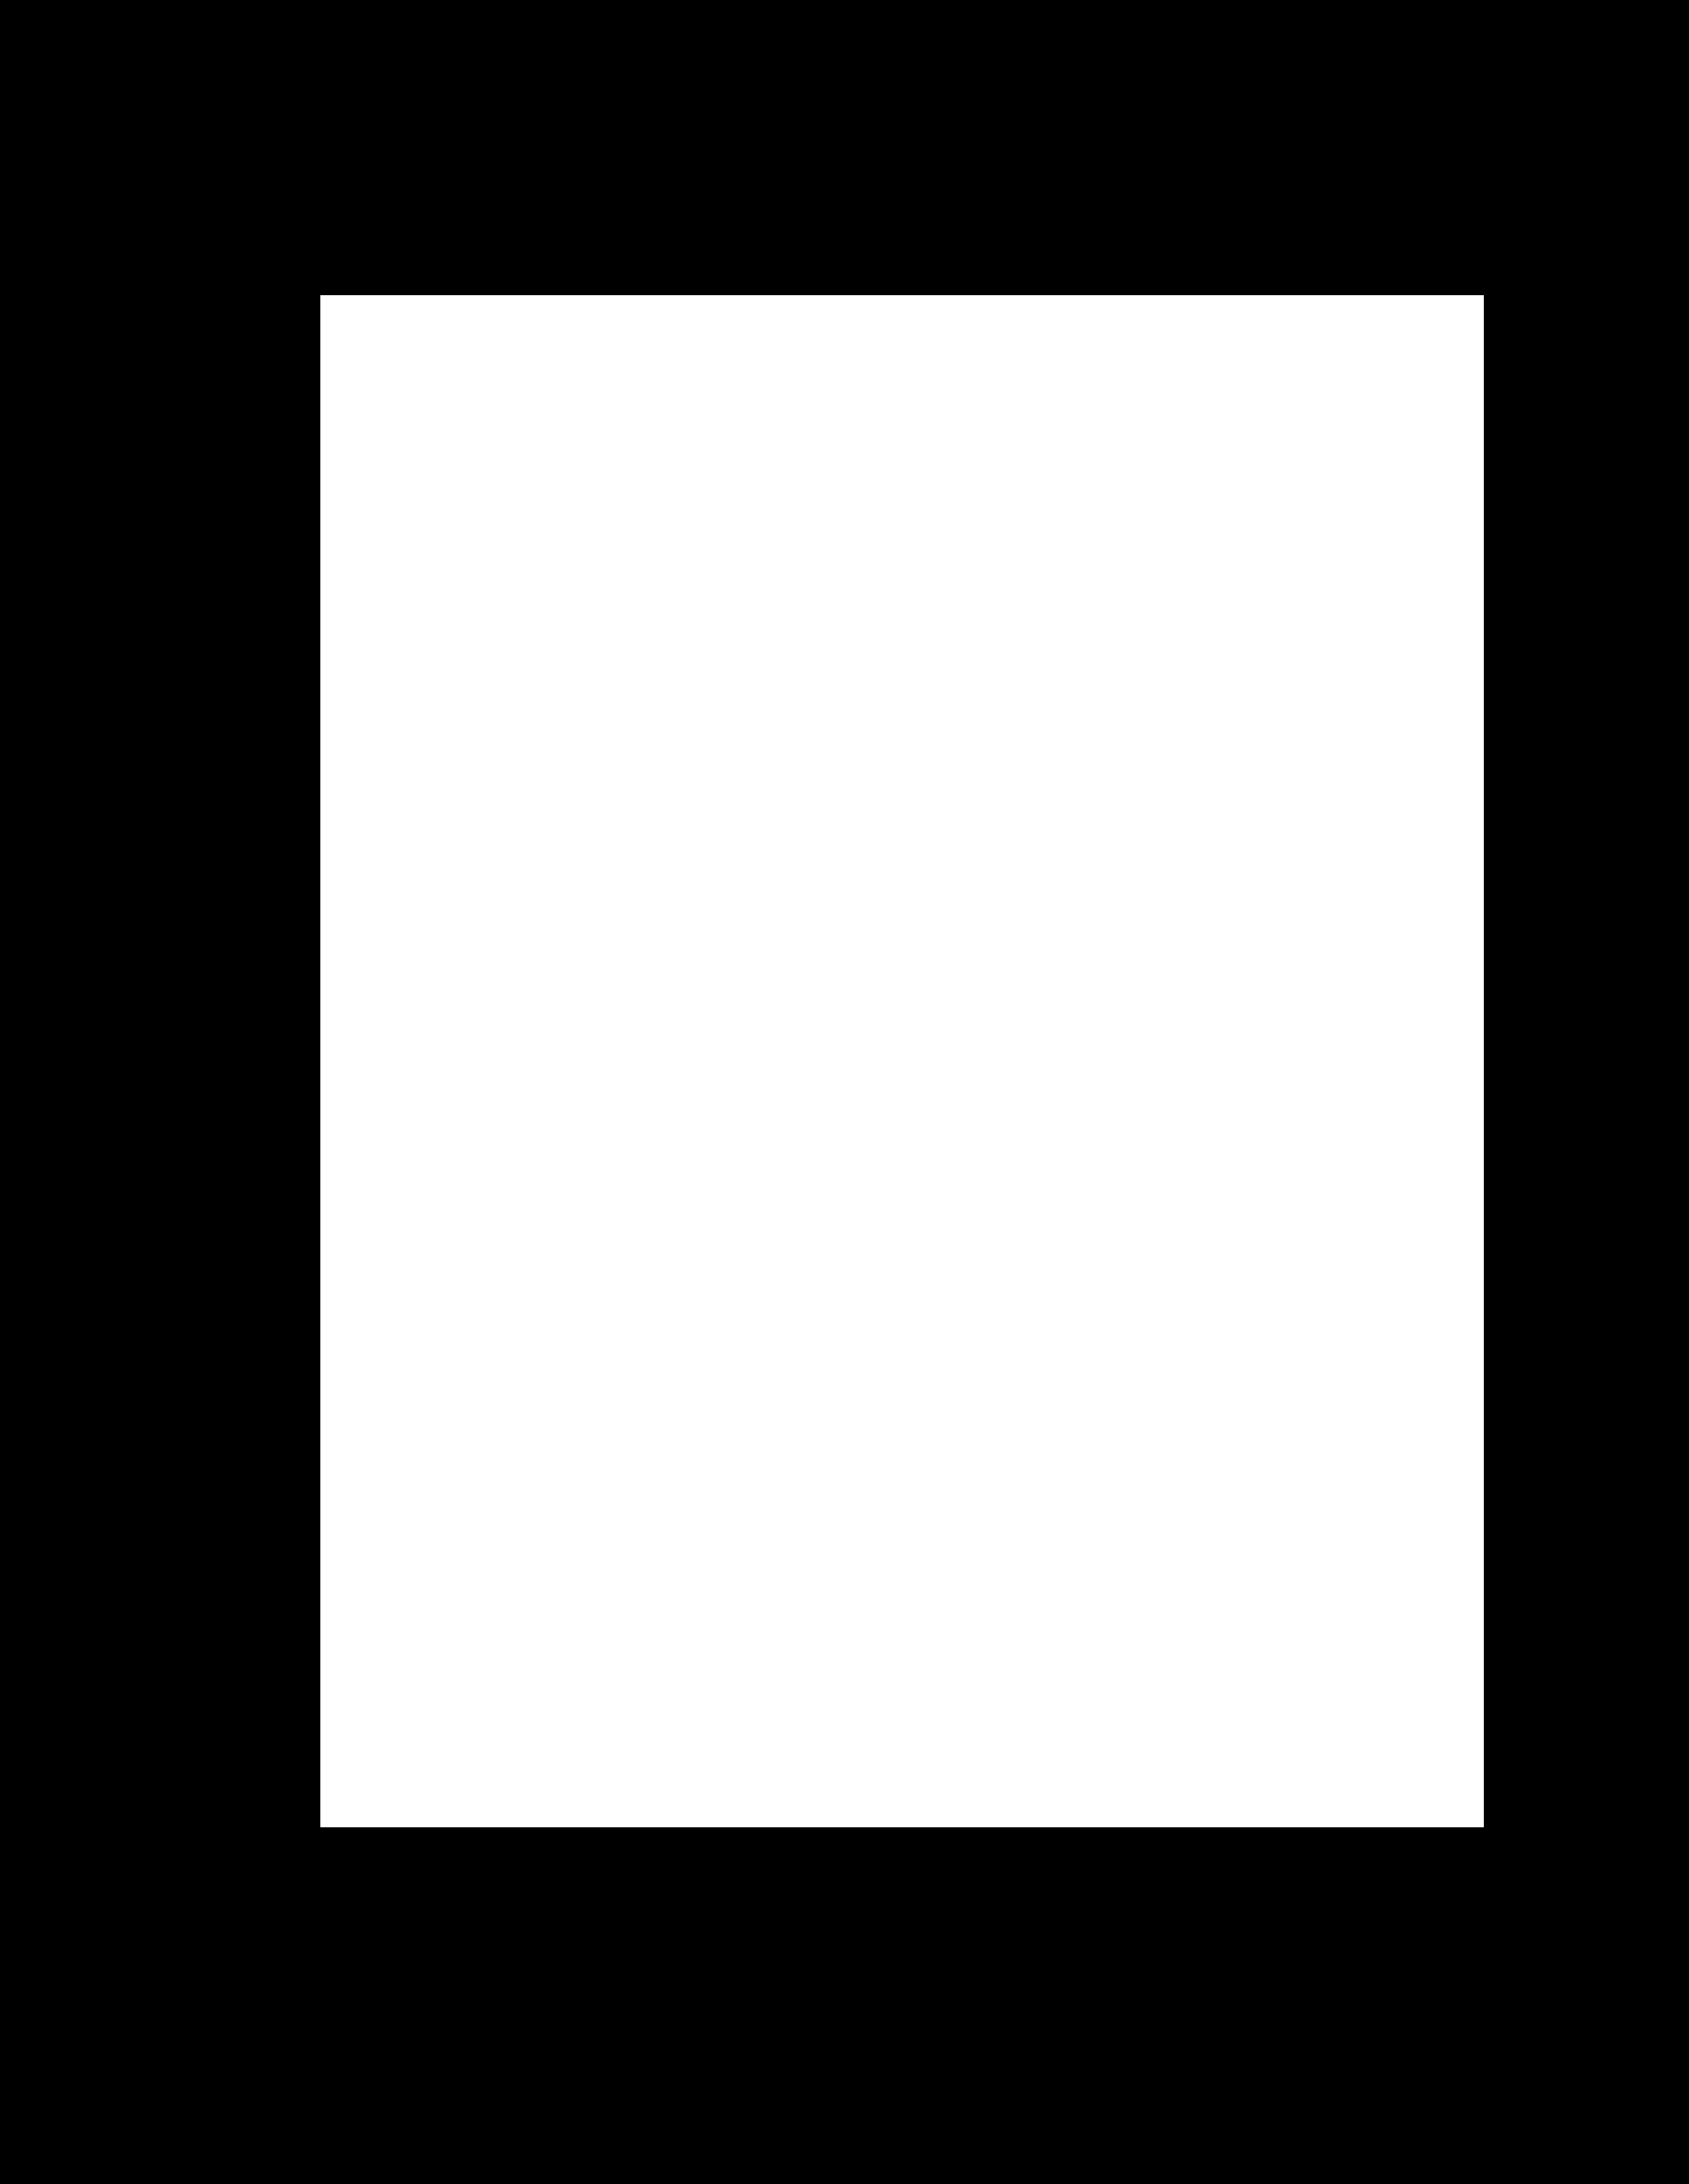table: (321, 296, 1483, 1826)
